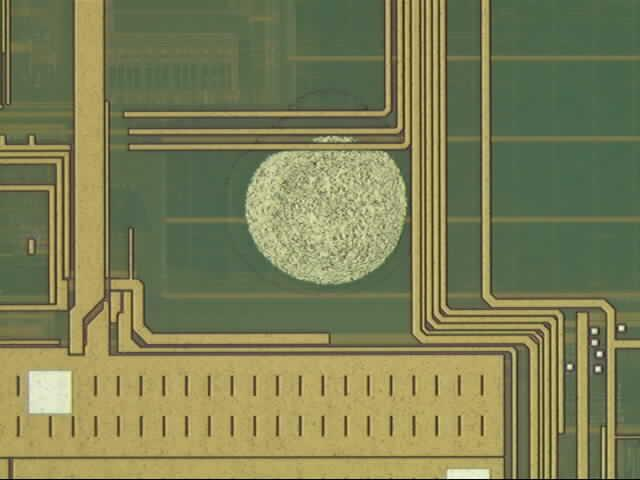BLOCK ETCH: (222, 88, 427, 301)
